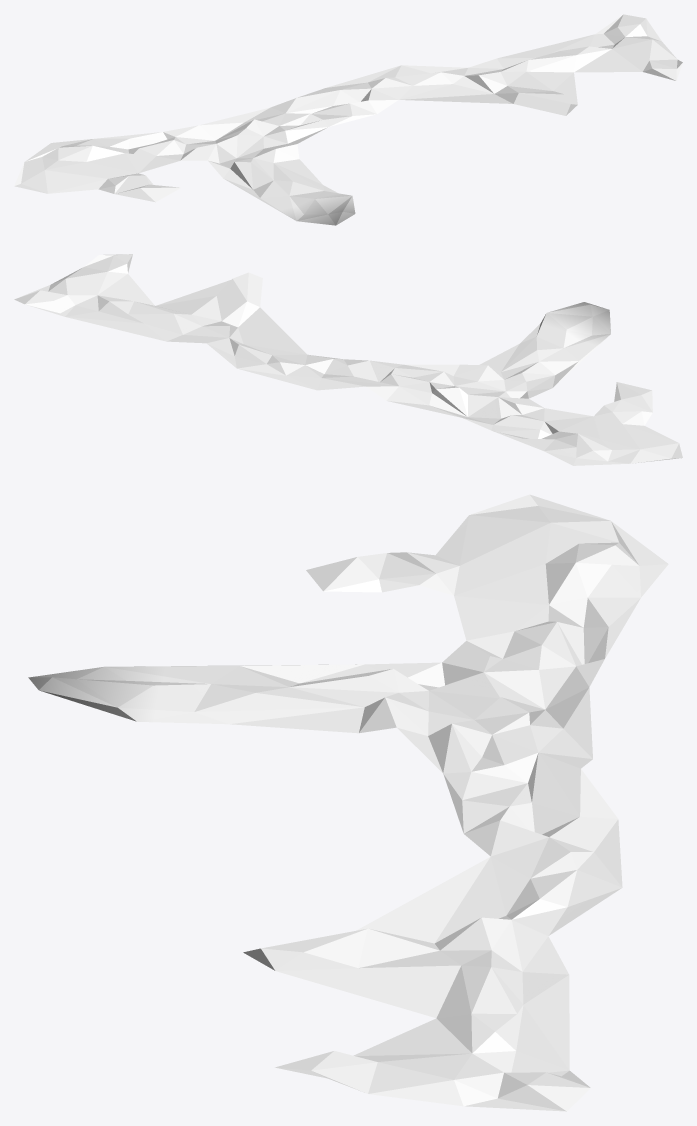
Rendered from Plant02.fbx.
The picture shows the model from 3 angles, top to bottom: view 1: azimuth 30°, elevation 25°; view 2: azimuth 150°, elevation 25°; view 3: azimuth 270°, elevation 25°; orthographic projection. The views are drawn at different scales.
Visible parts, largest first — view 1: Plant02; view 2: Plant02; view 3: Plant02.
Boxes of the visible parts, bbox=[...] form: Plant02: bbox=[14, 14, 682, 225]; Plant02: bbox=[14, 254, 682, 465]; Plant02: bbox=[28, 494, 668, 1111].
Size of the model in its own units: 143 by 4.23 by 61.64.
